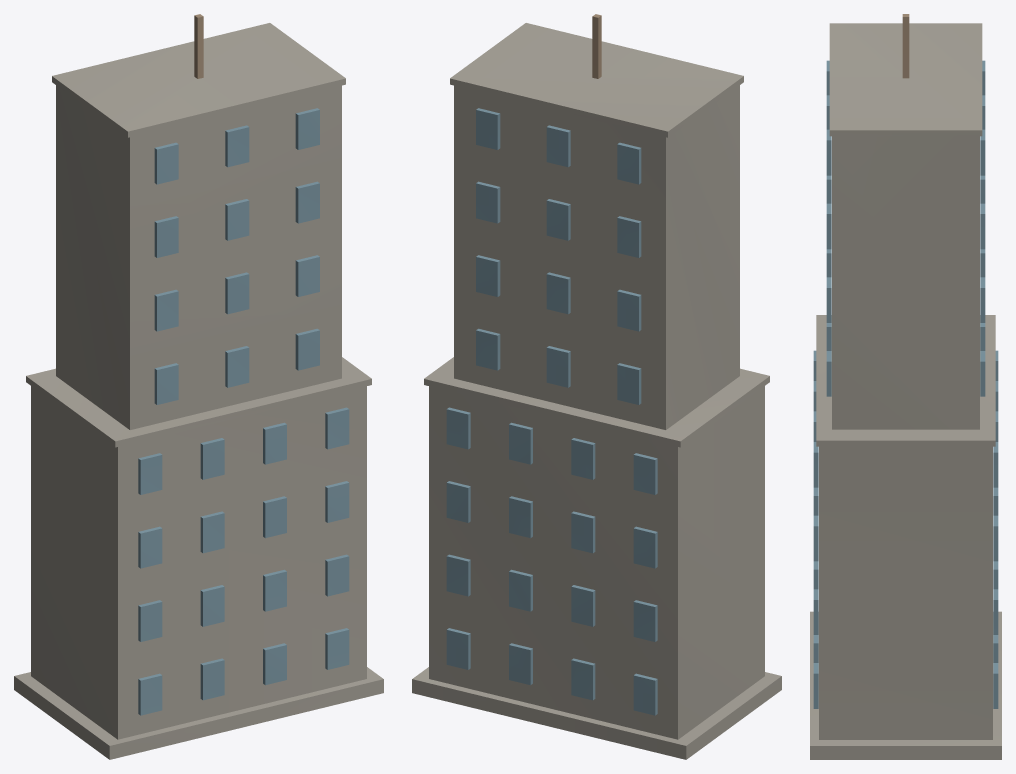
The model's file is tower-03.glb.
The picture shows the model from 3 angles, left to right: view 1: azimuth 30°, elevation 25°; view 2: azimuth 150°, elevation 25°; view 3: azimuth 270°, elevation 25°; orthographic projection.
Parts seen in each view (by area): view 1: world; view 2: world; view 3: world.
Boxes of the visible parts, left/top/right/bottom form: world: left=14, top=14, right=383, bottom=759; world: left=412, top=14, right=781, bottom=759; world: left=810, top=14, right=1001, bottom=759.
Size of the model in its own units: 1.64 by 3.86 by 0.99.
